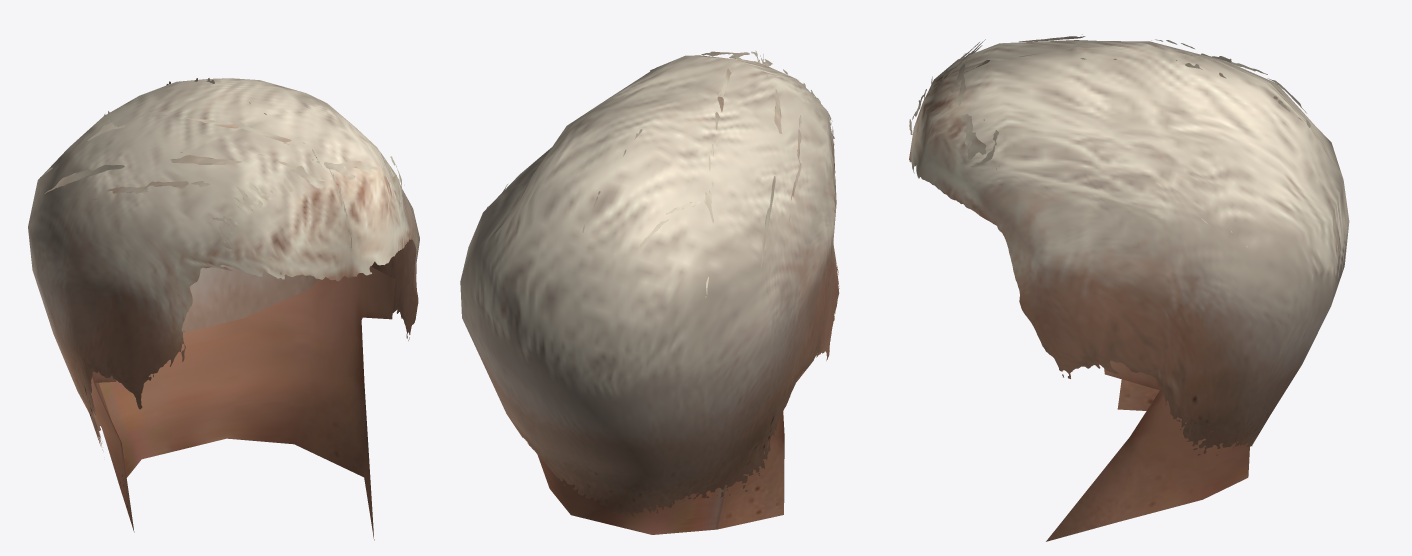
File: esp-olmo.glb
3 renders of one model, left to right at view 1: azimuth 30°, elevation 25°; view 2: azimuth 150°, elevation 25°; view 3: azimuth 270°, elevation 25°, orthographic. The views are drawn at different scales.
Parts seen in each view (by area): view 1: hair; view 2: hair; view 3: hair.
Part boxes in pixels (x1,y1,x2,y2): hair: (28,78,419,540); hair: (460,50,839,534); hair: (909,34,1349,541).
Bounding box in the file's own units: 0.162 × 0.2291 × 0.2323.
2 materials, 2 textured.
